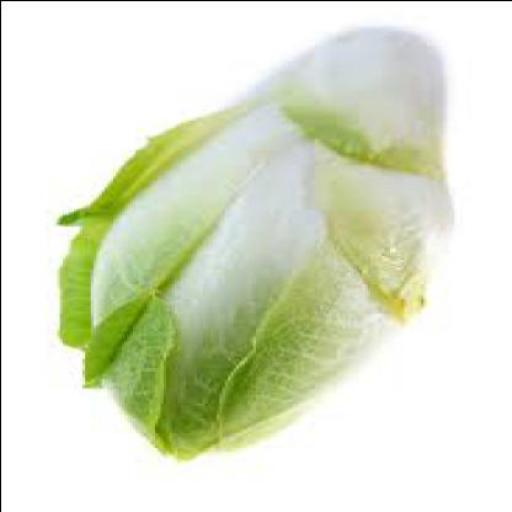biodegradable: (54, 22, 448, 454)
